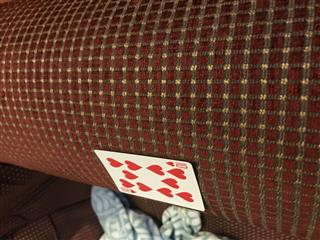TenOfHearts: (92, 148, 206, 211)
